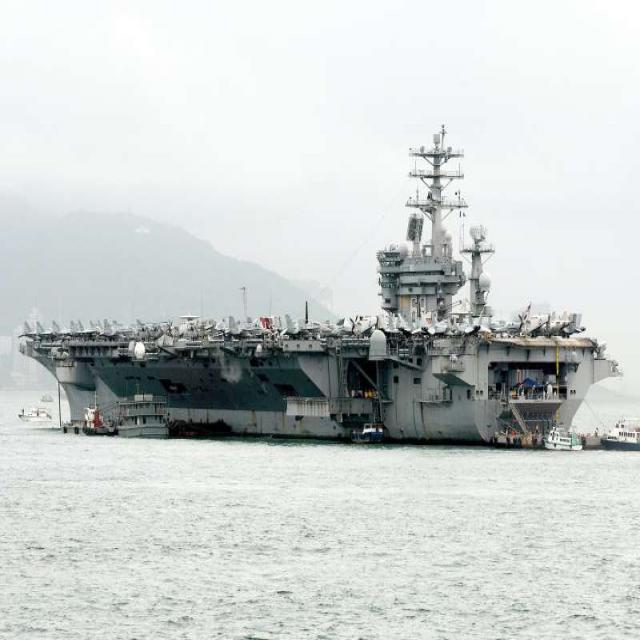Portanaves: (16, 121, 632, 457)
